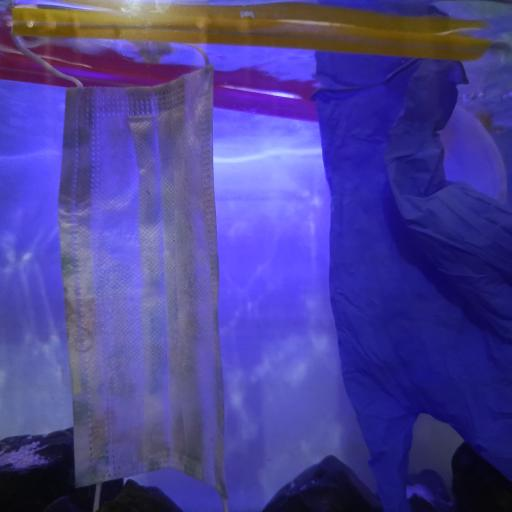glove: (313, 58, 512, 512)
mask: (13, 36, 230, 512)
plastic_cup: (437, 105, 508, 209)
plastic_straw: (12, 8, 486, 64), (0, 52, 313, 118)
